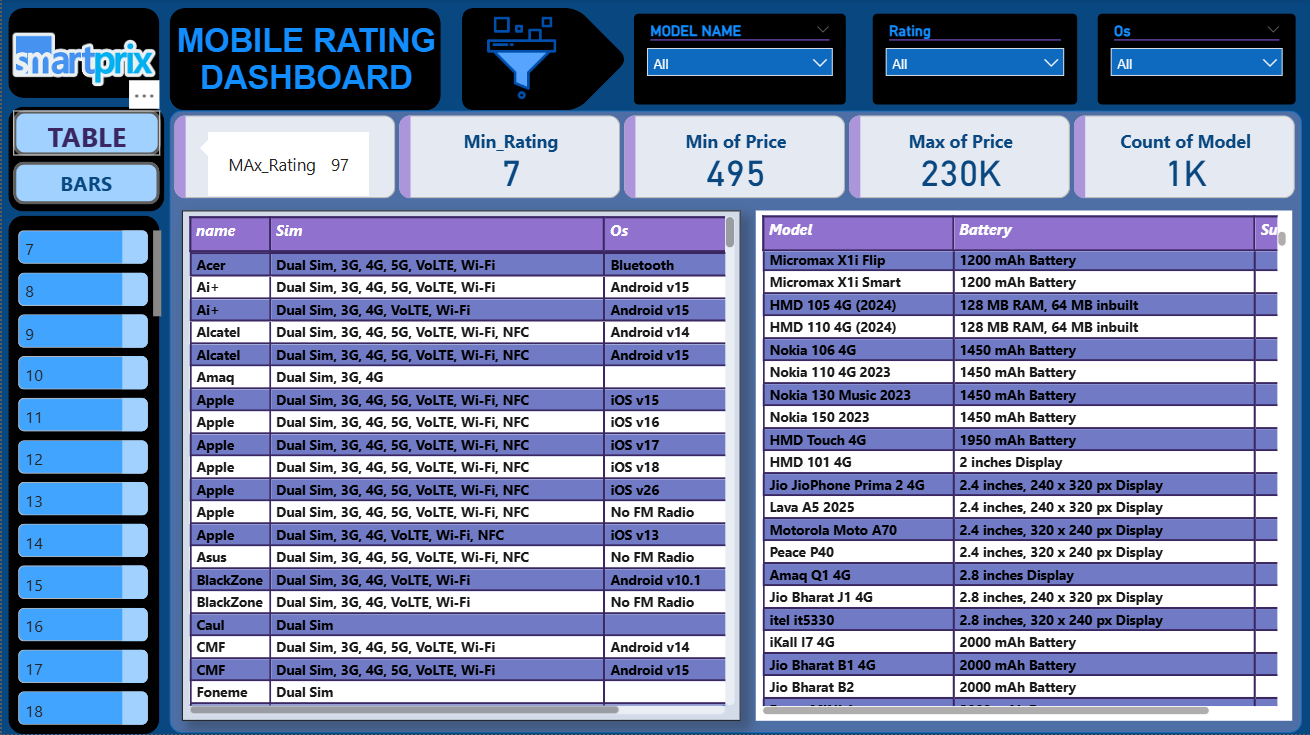

Layout of this report page (visuals, bound fields, positions):
{"tool":"powerbi","page":{"name":"Page 2","canvas":[1280,720],"ordinal":1},"visuals":[{"type":"shape","box":[6.1,9.8,148,88],"z":1000},{"type":"shape","box":[163.9,110.1,1107.9,609],"z":1500},{"type":"shape","box":[6.1,106.4,152.9,102.7],"z":2000},{"type":"shape","box":[6.1,212.5,148,507.5],"z":3000},{"type":"advancedSlicerVisual","fields":{"Values":["uncleaned_data.Rating"]},"box":[11,222.6,150.4,497.7],"z":4000},{"type":"shape","box":[163.9,9.8,265.4,100.3],"z":5000},{"type":"textbox","box":[145.5,19.6,304.5,86.8],"z":6000},{"type":"cardVisual","fields":{"Data":["Max(uncleaned_data.Rating)","Min(uncleaned_data.Rating)1","Min(uncleaned_data.Price)","Max(uncleaned_data.Price)1","CountNonNull(uncleaned_data.Model)"]},"box":[163.9,110.1,1107.9,91.7],"z":7000},{"type":"slicer","fields":{"Values":["uncleaned_data.Os"]},"box":[1066.5,9.7,205.1,100.1],"z":8000},{"type":"slicer","fields":{"Values":["uncleaned_data.Rating"]},"box":[845.7,9.7,211.1,100.1],"z":9000},{"type":"slicer","fields":{"Values":["uncleaned_data.name"]},"box":[612.9,9.7,218.4,100.1],"z":10000},{"type":"shape","box":[450,9.7,162.9,100.1],"z":11000},{"type":"image","box":[450,12.2,117.6,93.2],"z":12000},{"type":"image","box":[3.7,14.7,152.9,95.4],"z":13000},{"type":"actionButton","title":"2nd button","box":[11,160.2,143.1,41.6],"z":16000},{"type":"actionButton","box":[11,110.1,144.3,44],"z":17000},{"type":"tableEx","fields":{"Values":["uncleaned_data.name","uncleaned_data.Sim","uncleaned_data.Os"]},"box":[176.1,207.9,546.6,498.9],"z":22000},{"type":"tableEx","fields":{"Values":["uncleaned_data.Model","uncleaned_data.Battery","Sum(uncleaned_data.Price)"]},"box":[737.4,207.9,524.6,498.9],"z":23000}]}

Visuals, with their boxes in screenshot pixels (x1, y1, x2, y2), scaled from the page's 1280x720 canvas onto the 1310x735 screenshot:
shape: box(6, 10, 158, 100)
shape: box(168, 112, 1302, 734)
shape: box(6, 109, 163, 213)
shape: box(6, 217, 158, 734)
advancedSlicerVisual - uncleaned_data.Rating: box(11, 227, 165, 734)
shape: box(168, 10, 439, 112)
textbox: box(149, 20, 461, 109)
cardVisual - Max(uncleaned_data.Rating) x Min(uncleaned_data.Rating)1: box(168, 112, 1302, 206)
slicer - uncleaned_data.Os: box(1091, 10, 1301, 112)
slicer - uncleaned_data.Rating: box(866, 10, 1082, 112)
slicer - uncleaned_data.name: box(627, 10, 851, 112)
shape: box(461, 10, 627, 112)
image: box(461, 12, 581, 108)
image: box(4, 15, 160, 112)
"2nd button" actionButton: box(11, 164, 158, 206)
actionButton: box(11, 112, 159, 157)
tableEx - uncleaned_data.name x uncleaned_data.Sim: box(180, 212, 740, 722)
tableEx - uncleaned_data.Model x uncleaned_data.Battery: box(755, 212, 1292, 722)
